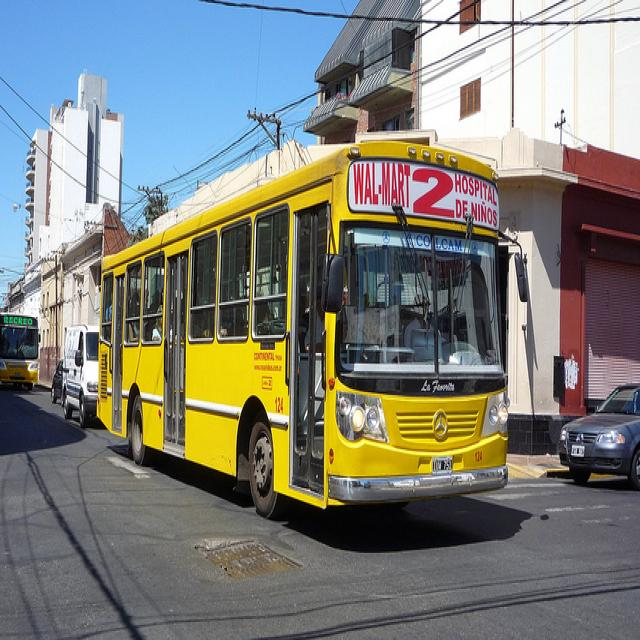Vehicle: (96, 146, 509, 522), (559, 382, 640, 500), (60, 322, 100, 428), (0, 312, 41, 390), (50, 359, 64, 404)
